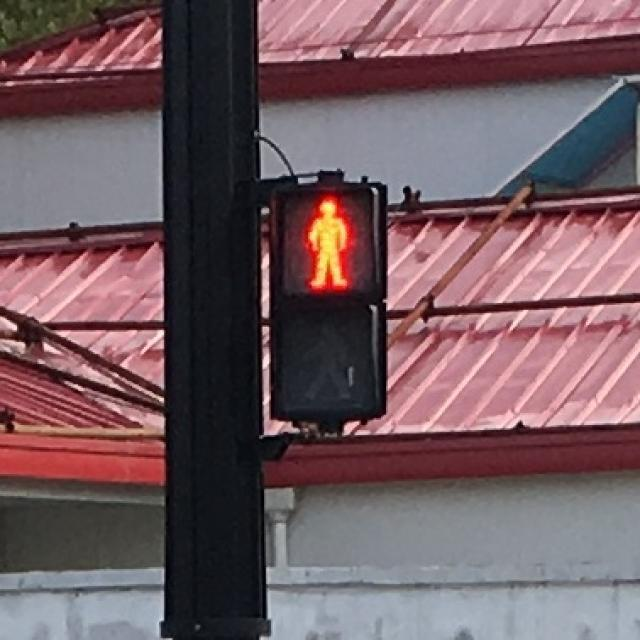red-crossing: (276, 184, 376, 293)
